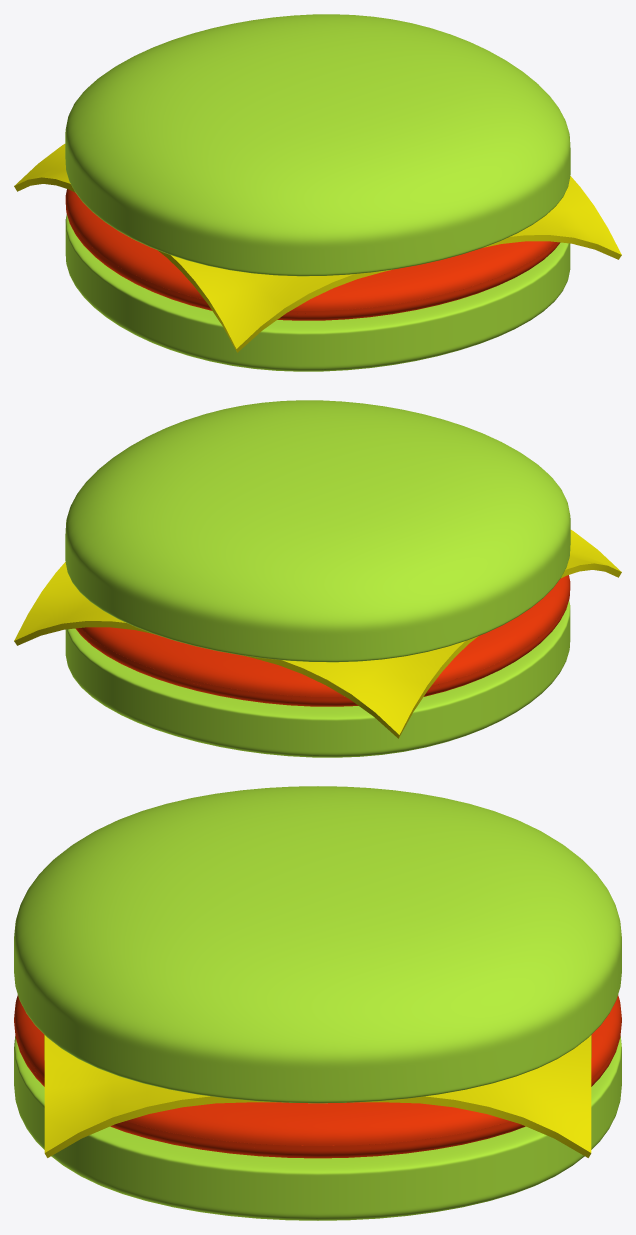
The model's file is hamburger.glb.
3 renders of one model, top to bottom at view 1: azimuth 30°, elevation 25°; view 2: azimuth 150°, elevation 25°; view 3: azimuth 270°, elevation 25°, orthographic. The views are drawn at different scales.
Visible parts, largest first — view 1: Cube.003, Cube.001, Cube.002, Plane; view 2: Cube.003, Cube.001, Cube.002, Plane; view 3: Cube.003, Cube.001, Cube.002, Plane.
Part boxes in pixels (x1,y1,x2,y2): Cube.003: [65, 14, 570, 276]; Cube.001: [65, 214, 570, 371]; Cube.002: [65, 189, 560, 320]; Plane: [14, 144, 621, 352]; Cube.003: [65, 400, 570, 662]; Cube.001: [65, 600, 570, 757]; Cube.002: [75, 575, 570, 706]; Plane: [14, 530, 621, 738]; Cube.003: [14, 786, 621, 1103]; Cube.001: [14, 1036, 621, 1220]; Cube.002: [14, 995, 621, 1158]; Plane: [44, 1035, 591, 1157].
Bounding box in the file's own units: 18.6 × 8.47 × 18.6.
